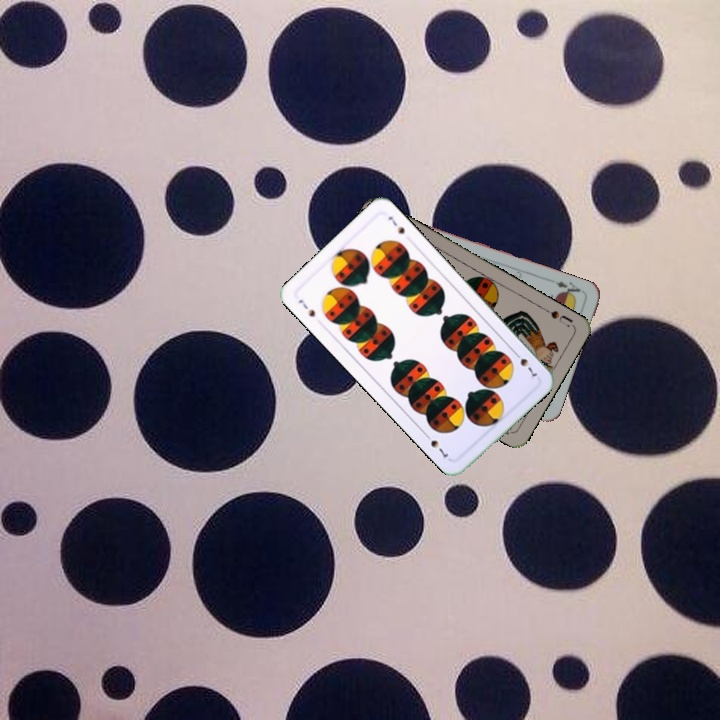EA: (552, 277, 586, 300)
S7: (510, 347, 540, 379), (294, 295, 318, 320)
SU: (538, 303, 575, 328)
